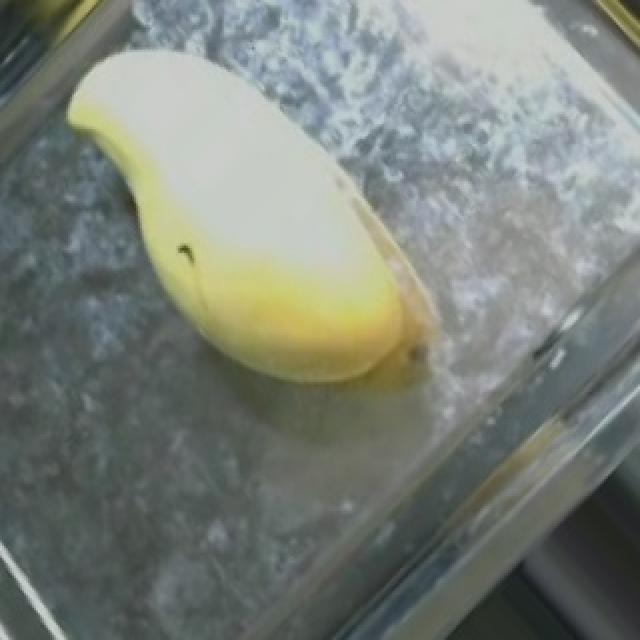fruit: (114, 112, 504, 454)
